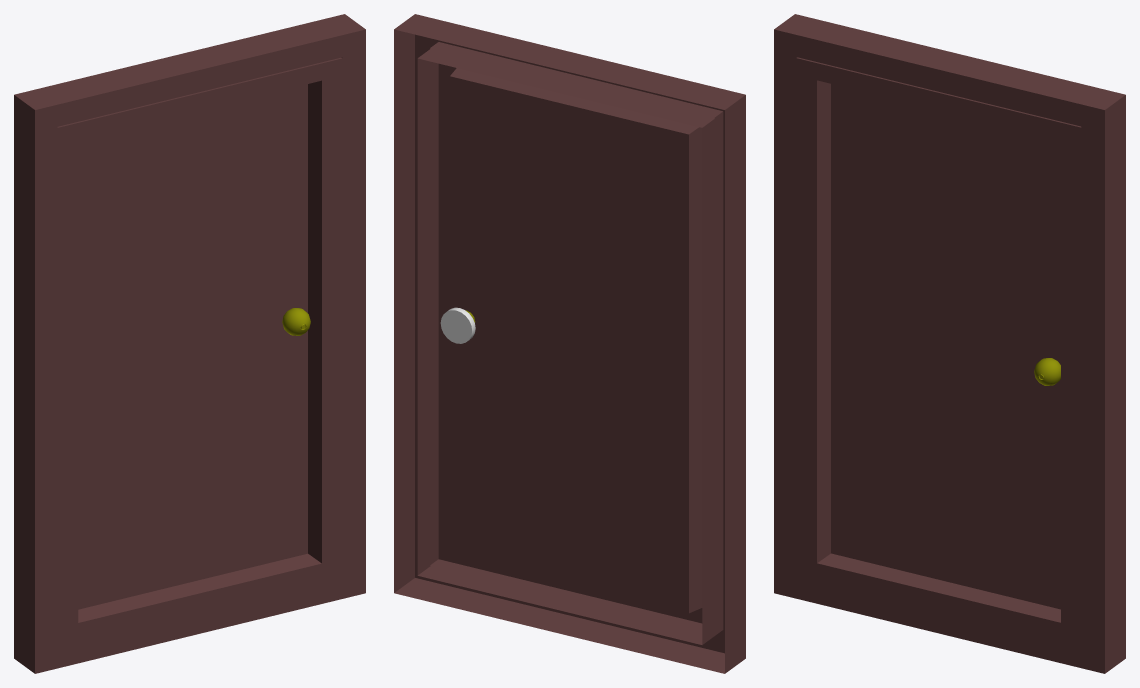
The model's file is Puerta.fbx.
3 renders of one model, left to right at view 1: azimuth 30°, elevation 25°; view 2: azimuth 150°, elevation 25°; view 3: azimuth 330°, elevation 25°, orthographic.
Parts seen in each view (by area): view 1: puerta; view 2: puerta; view 3: puerta.
Part boxes in pixels (x1,y1,x2,y2): puerta: (14,14,365,673); puerta: (394,14,745,673); puerta: (774,14,1125,673).
Size of the model in its own units: 70.24 by 114 by 8.13.
